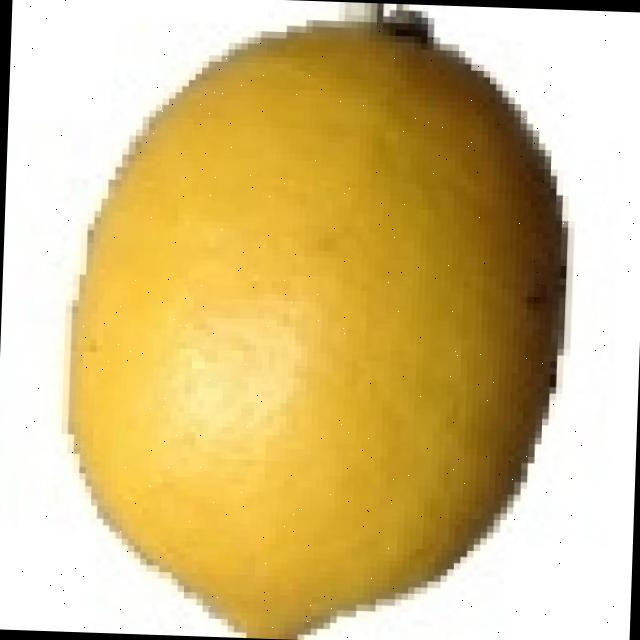lemon: (69, 17, 562, 639)
